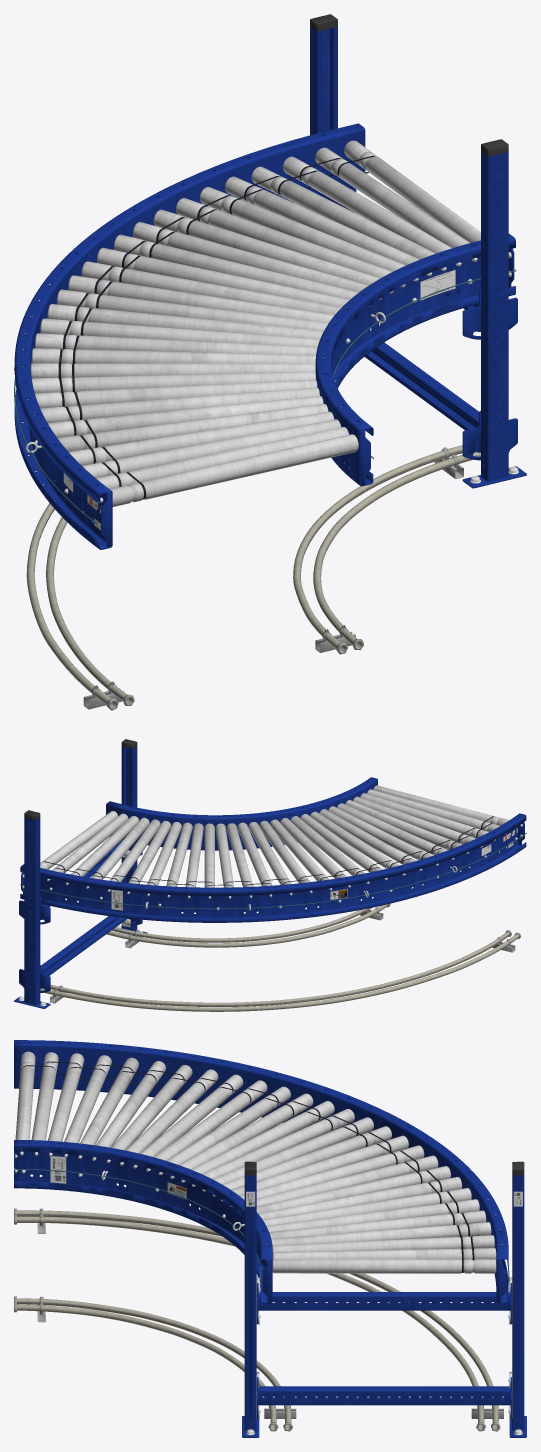
Rendered from nvidia-conveyor-a02-lod.glb.
The picture shows the model from 3 angles, top to bottom: view 1: azimuth 30°, elevation 25°; view 2: azimuth 150°, elevation 25°; view 3: azimuth 270°, elevation 25°; orthographic projection. The views are drawn at different scales.
Parts seen in each view (by area): view 1: sm_conveyor_belt_body_a02_mesh_00, sm_roller28_a02_mesh_00, sm_roller18_a02_mesh_00, sm_roller20_a02_mesh_00, sm_roller19_a02_mesh_00, sm_roller22_a02_mesh_00, sm_roller17_a02_mesh_00, sm_roller21_a02_mesh_00, sm_roller24_a02_mesh_00, sm_roller16_a02_mesh_00, sm_roller15_a02_mesh_00, sm_roller13_a02_mesh_00 (+17 smaller); view 2: sm_conveyor_belt_body_a02_mesh_00, sm_roller26_a02_mesh_00, sm_roller25_a02_mesh_00, sm_roller23_a02_mesh_00, sm_roller24_a02_mesh_00, sm_roller22_a02_mesh_00, sm_roller27_a02_mesh_00, sm_roller21_a02_mesh_00, sm_roller28_a02_mesh_00, sm_roller20_a02_mesh_00, sm_roller01_a02_mesh_00, sm_roller19_a02_mesh_00 (+17 smaller); view 3: sm_conveyor_belt_body_a02_mesh_00, sm_roller01_a02_mesh_00, sm_roller03_a02_mesh_00, sm_roller04_a02_mesh_00, sm_roller02_a02_mesh_00, sm_roller05_a02_mesh_00, sm_roller06_a02_mesh_00, sm_roller07_a02_mesh_00, sm_roller08_a02_mesh_00, sm_roller09_a02_mesh_00, sm_roller10_a02_mesh_00, sm_roller15_a02_mesh_00 (+17 smaller).
Part boxes in pixels (left/top/right/bottom): sm_conveyor_belt_body_a02_mesh_00: left=14, top=14, right=526, bottom=710; sm_roller28_a02_mesh_00: left=110, top=434, right=358, bottom=506; sm_roller18_a02_mesh_00: left=31, top=348, right=315, bottom=364; sm_roller20_a02_mesh_00: left=31, top=371, right=315, bottom=393; sm_roller19_a02_mesh_00: left=30, top=363, right=315, bottom=378; sm_roller22_a02_mesh_00: left=40, top=387, right=319, bottom=422; sm_roller17_a02_mesh_00: left=35, top=333, right=317, bottom=355; sm_roller21_a02_mesh_00: left=35, top=379, right=317, bottom=408; sm_roller24_a02_mesh_00: left=48, top=396, right=323, bottom=437; sm_roller16_a02_mesh_00: left=40, top=318, right=320, bottom=346; sm_roller15_a02_mesh_00: left=47, top=304, right=323, bottom=338; sm_roller13_a02_mesh_00: left=68, top=275, right=334, bottom=322; sm_conveyor_belt_body_a02_mesh_00: left=14, top=739, right=526, bottom=1011; sm_roller26_a02_mesh_00: left=360, top=793, right=488, bottom=838; sm_roller25_a02_mesh_00: left=353, top=796, right=475, bottom=844; sm_roller23_a02_mesh_00: left=345, top=800, right=461, bottom=849; sm_roller24_a02_mesh_00: left=337, top=803, right=447, bottom=855; sm_roller22_a02_mesh_00: left=328, top=806, right=432, bottom=859; sm_roller27_a02_mesh_00: left=367, top=789, right=499, bottom=831; sm_roller21_a02_mesh_00: left=319, top=809, right=416, bottom=864; sm_roller28_a02_mesh_00: left=373, top=785, right=509, bottom=825; sm_roller20_a02_mesh_00: left=310, top=811, right=399, bottom=868; sm_roller01_a02_mesh_00: left=40, top=811, right=117, bottom=869; sm_roller19_a02_mesh_00: left=300, top=814, right=382, bottom=872; sm_conveyor_belt_body_a02_mesh_00: left=14, top=1040, right=526, bottom=1437; sm_roller01_a02_mesh_00: left=272, top=1259, right=496, bottom=1273; sm_roller03_a02_mesh_00: left=272, top=1235, right=494, bottom=1252; sm_roller04_a02_mesh_00: left=271, top=1222, right=491, bottom=1245; sm_roller02_a02_mesh_00: left=272, top=1248, right=496, bottom=1260; sm_roller05_a02_mesh_00: left=269, top=1210, right=486, bottom=1238; sm_roller06_a02_mesh_00: left=266, top=1199, right=479, bottom=1231; sm_roller07_a02_mesh_00: left=263, top=1188, right=471, bottom=1225; sm_roller08_a02_mesh_00: left=258, top=1177, right=462, bottom=1219; sm_roller09_a02_mesh_00: left=256, top=1166, right=450, bottom=1213; sm_roller10_a02_mesh_00: left=256, top=1155, right=438, bottom=1205; sm_roller15_a02_mesh_00: left=202, top=1109, right=354, bottom=1178.
Bounding box in the file's own units: 2.1 × 1.17 × 2.07.
8 materials, 6 textured.
